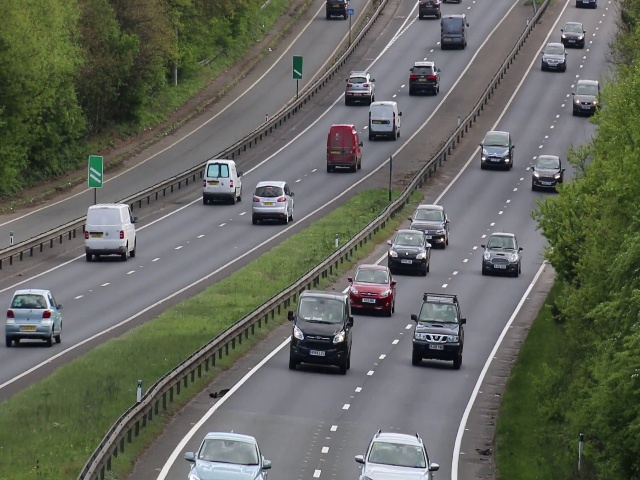car: (293, 290, 351, 375), (186, 428, 271, 480), (411, 290, 465, 368), (359, 431, 430, 480), (6, 289, 63, 349), (85, 203, 140, 263), (348, 264, 394, 317), (251, 178, 295, 226), (388, 230, 431, 277), (326, 121, 364, 174), (202, 156, 242, 206), (483, 230, 523, 278), (479, 128, 515, 172), (367, 99, 405, 139), (410, 203, 447, 243), (408, 59, 440, 97), (532, 153, 559, 192), (571, 77, 597, 116), (441, 16, 468, 49), (343, 73, 375, 100), (541, 41, 567, 74), (560, 20, 586, 48), (416, 1, 442, 18), (325, 1, 347, 18)
